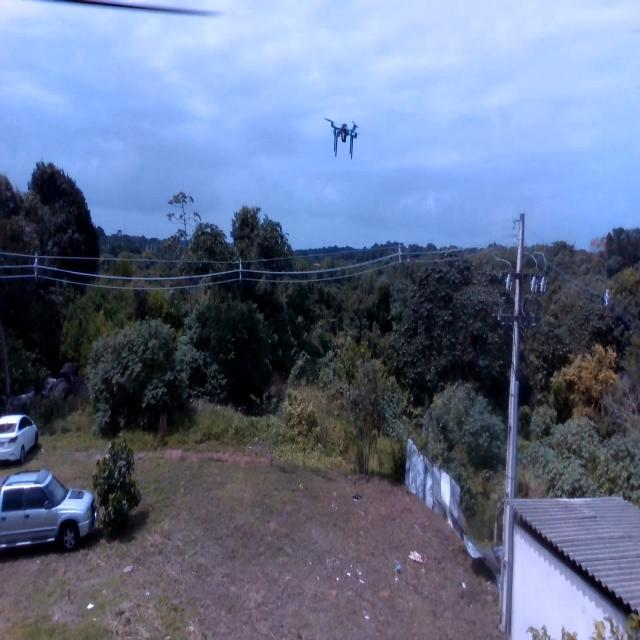-uav-: (322, 106, 370, 170)
